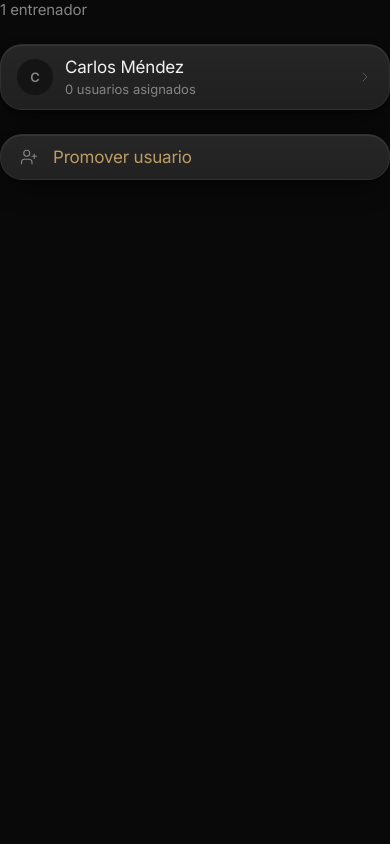
TrainerManagement › does not remove the trainer role until the alert is confirmed
The width and height of the screenshot is (390, 844).
Later steps or results of the test are not shown.
Click the button "C Carlos Méndez 0 usuarios asignados" at [35, 77], box [1,45,389,109]
(page scrolled)
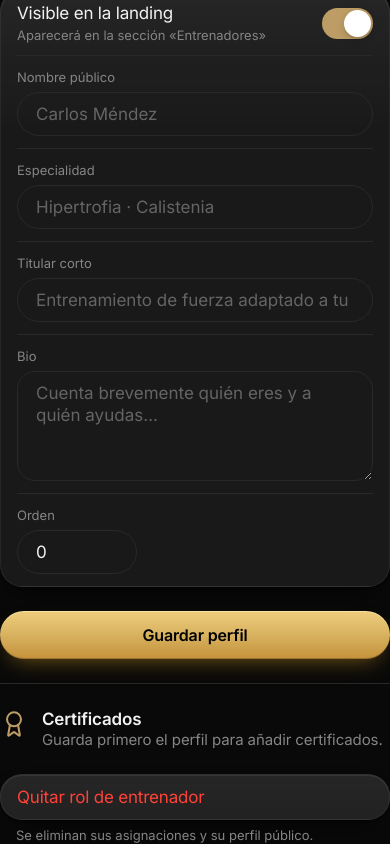
Click the button "Quitar rol de entrenador" at [195, 797], box [1,775,389,819]
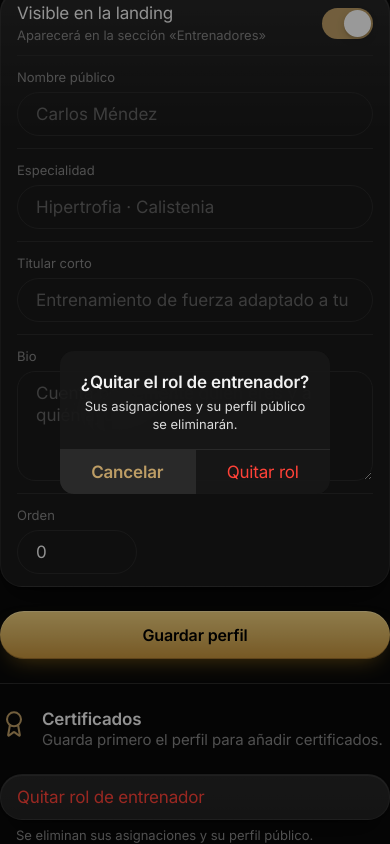
Check: the heading "¿Quitar el rol de entrenador?" is shown, box [76,370,314,392]
